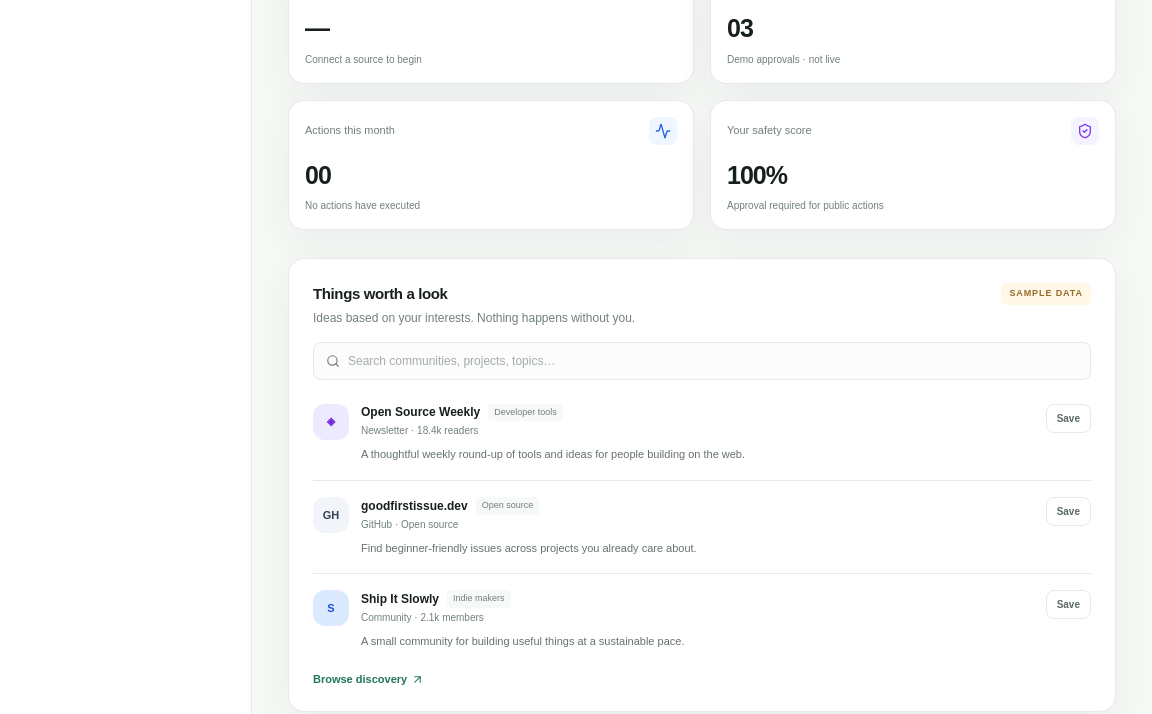
Test: dashboard shell › filters sample discoveries and renders an empty state
(page scrolled)
In the field named "Search opportunities": (713, 361) [348,343,1078,379], type "nothing-matches"
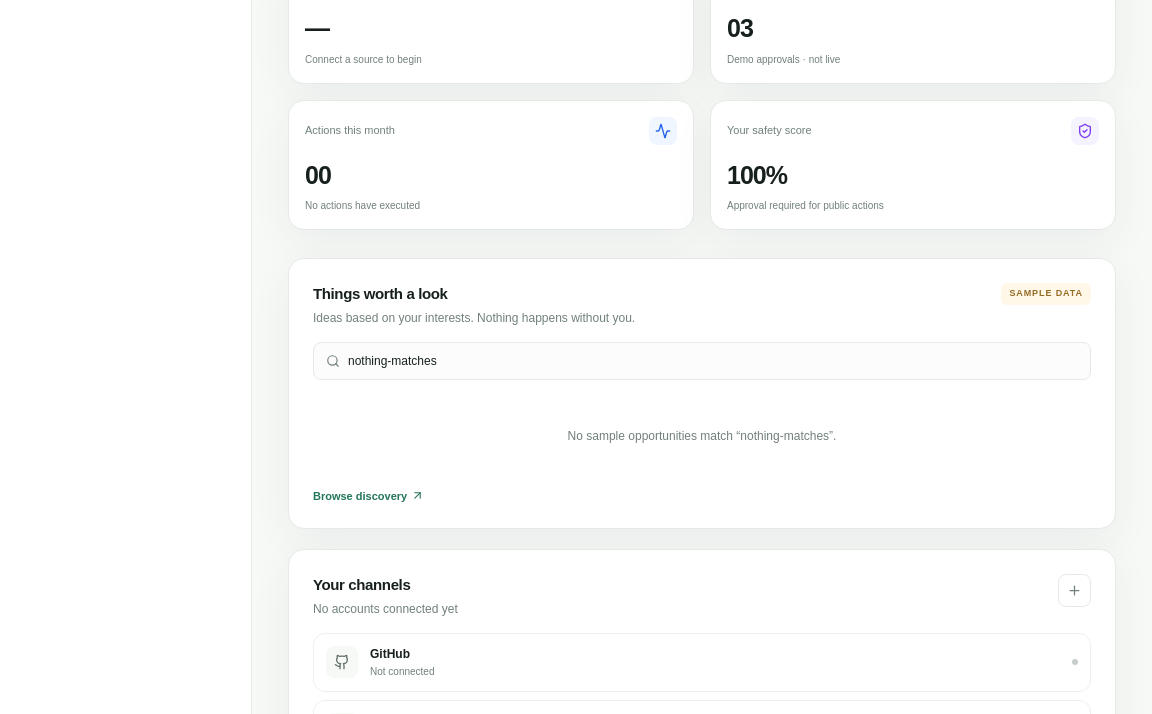
Now the text "No sample opportunities match “nothing-matches”." is shown, box [568,429,836,443]
